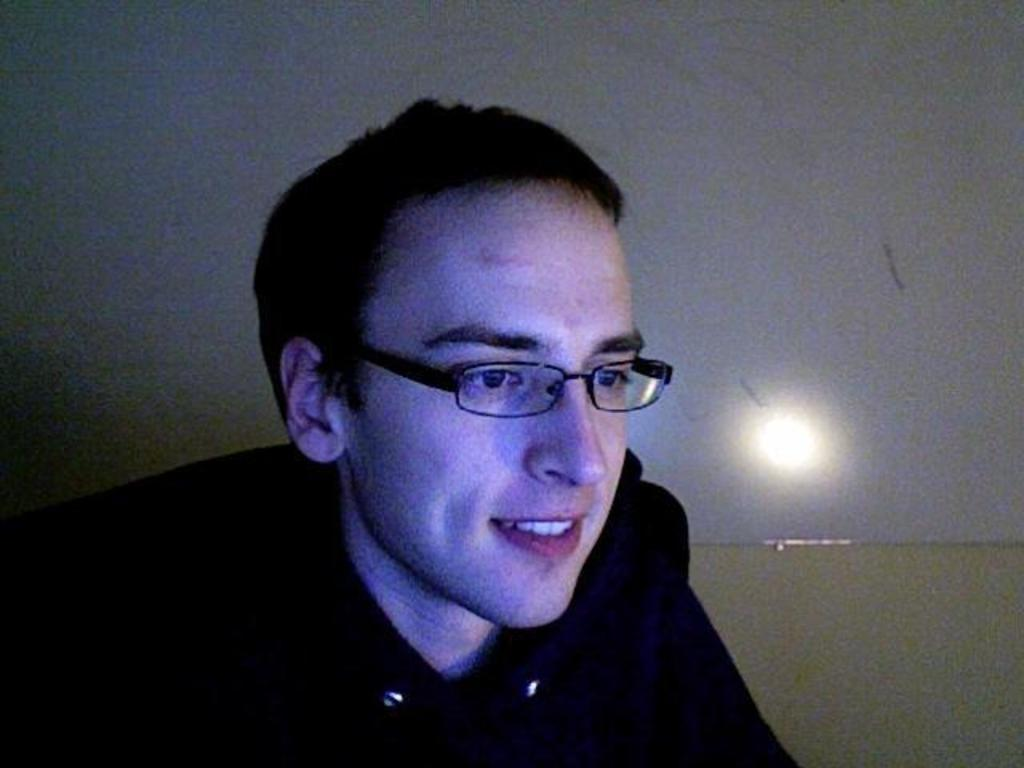Sem Máscara: (348, 176, 646, 627)
